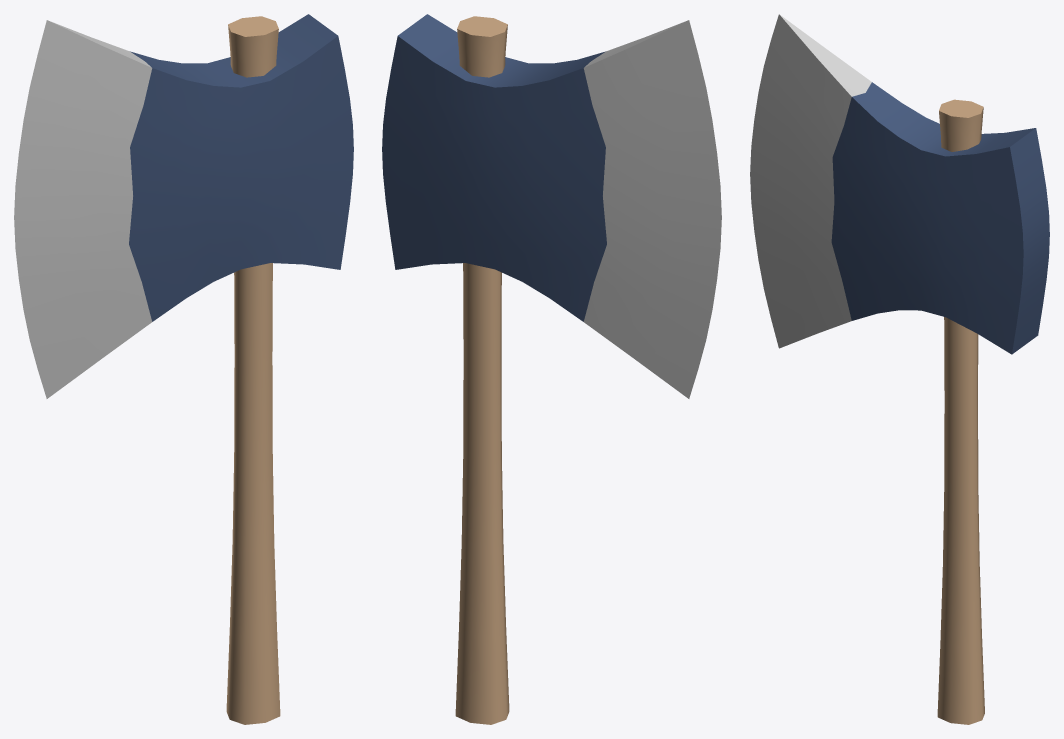
The model's file is Weapon_04_Axe.fbx.
The picture shows the model from 3 angles, left to right: view 1: azimuth 30°, elevation 25°; view 2: azimuth 150°, elevation 25°; view 3: azimuth 330°, elevation 25°; orthographic projection. The views are drawn at different scales.
Parts seen in each view (by area): view 1: Prop_R_Axe_00_dummy; view 2: Prop_R_Axe_00_dummy; view 3: Prop_R_Axe_00_dummy.
Boxes of the visible parts, <box> form: Prop_R_Axe_00_dummy: <box>14,14,353,724</box>; Prop_R_Axe_00_dummy: <box>382,14,721,724</box>; Prop_R_Axe_00_dummy: <box>750,14,1049,724</box>.
Bounding box in the file's own units: 29.74 × 65.09 × 5.94.
